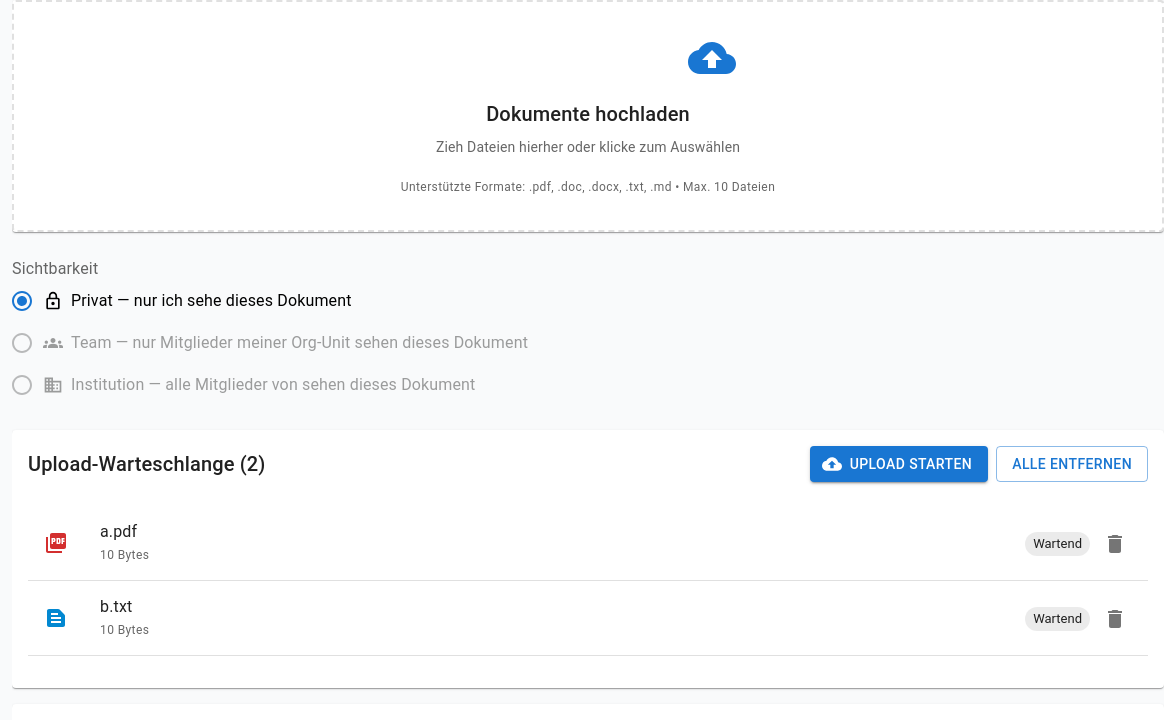
Test case: DocumentUpload › Upload queue › clears the whole queue
Click the button "Alle entfernen" at (1072, 464), box [996,446,1148,482]
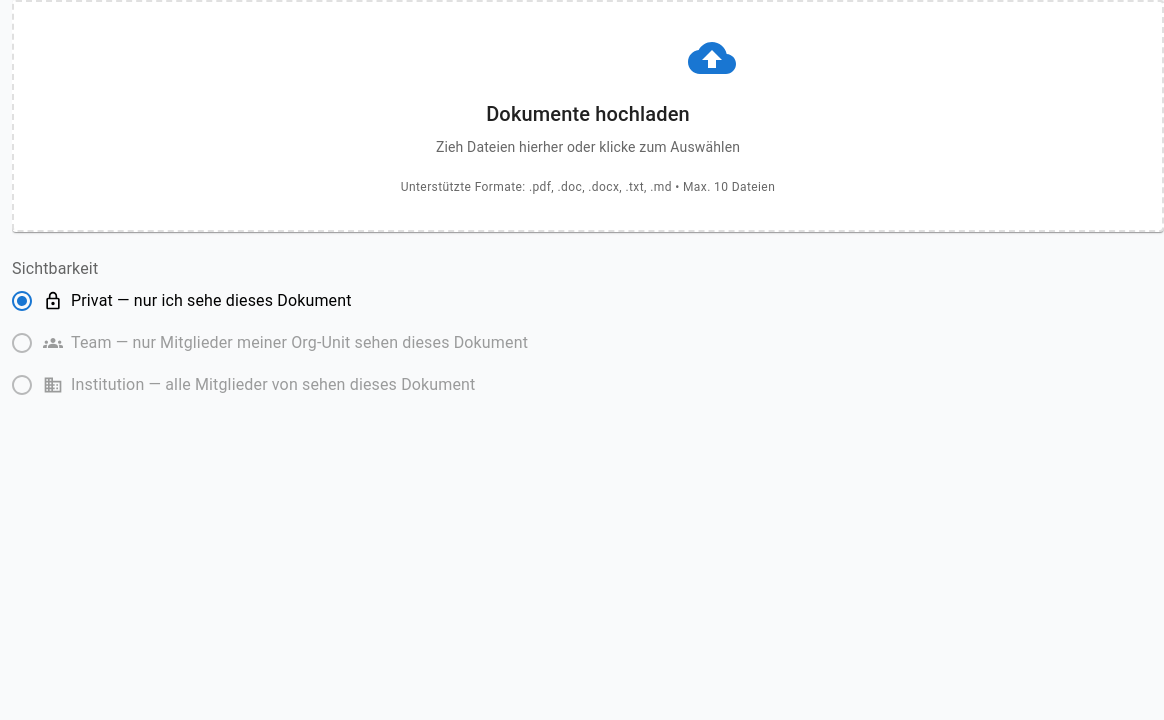
Now the text "a.pdf" is gone
Now the text "b.txt" is gone
Now the heading "Upload-Warteschlange" is gone
